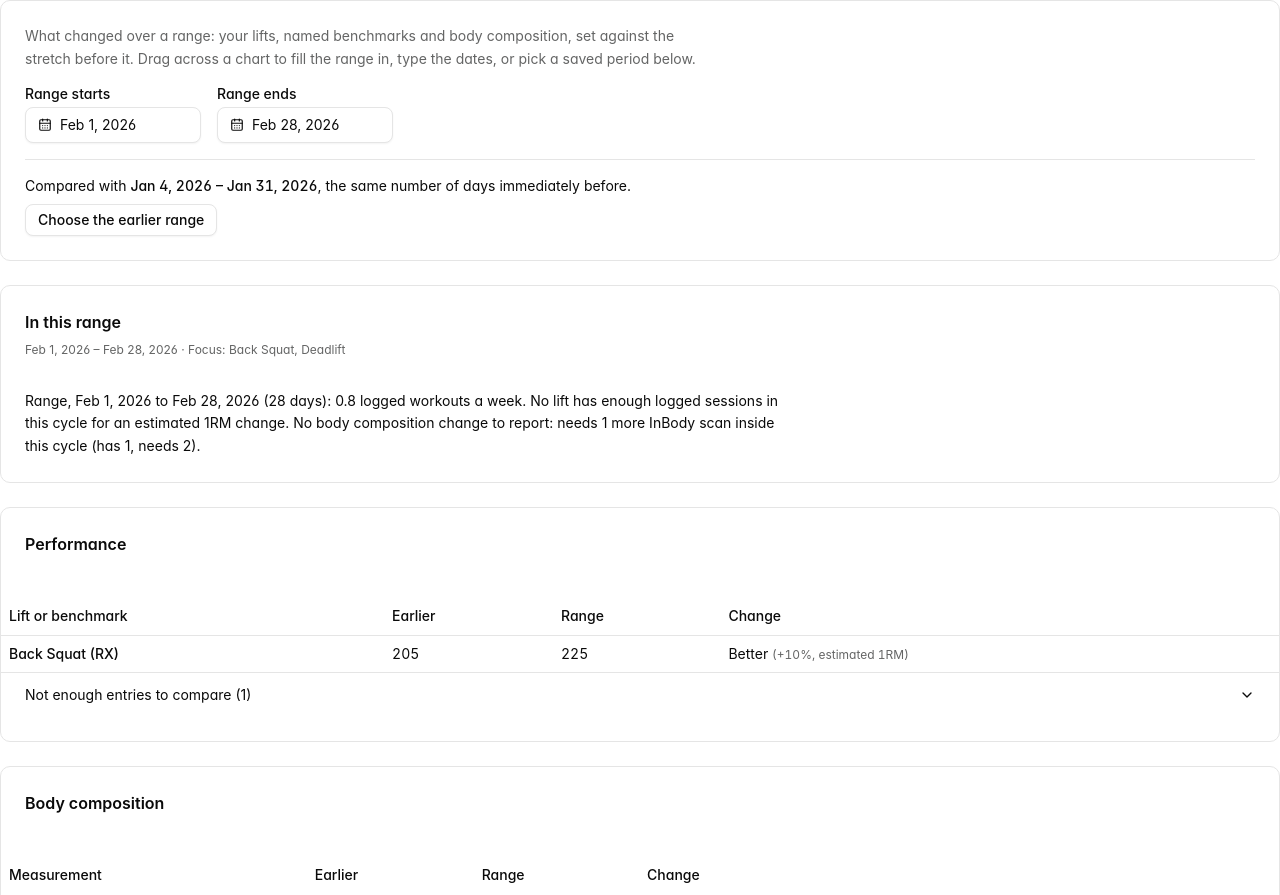
Test: CompareTab — comparing a range › lists subjects without enough entries collapsed, with the reason and no numbers
Expected: the text "window A needs 1 more logged entry" is not shown
Click the button "Not enough entries to compare (1)" at {"x": 133, "y": 695}, box top-left (25, 685), bottom-right (1255, 705)
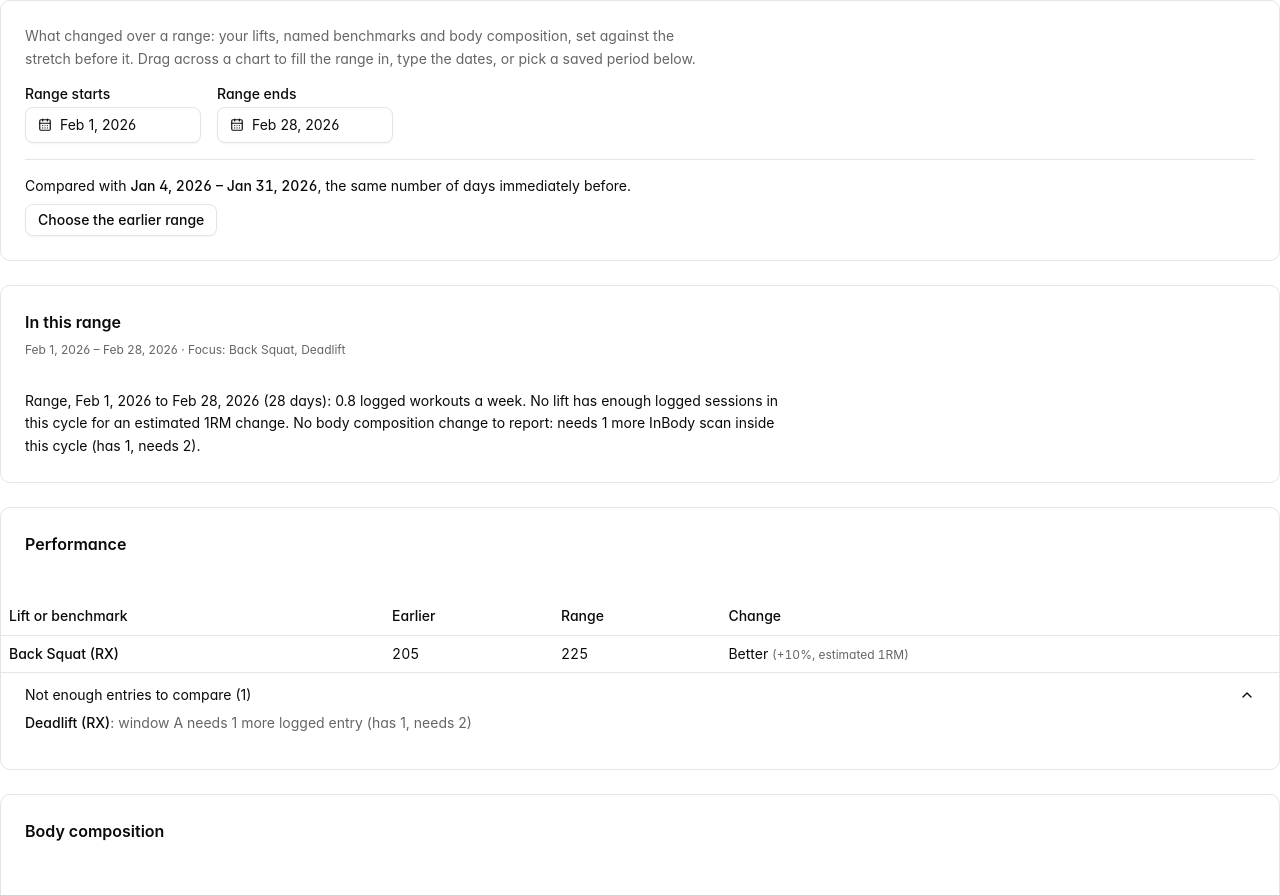
Now the text ": window A needs 1 more logged entry (has 1, needs 2)" is shown, box top-left (110, 714), bottom-right (472, 731)
